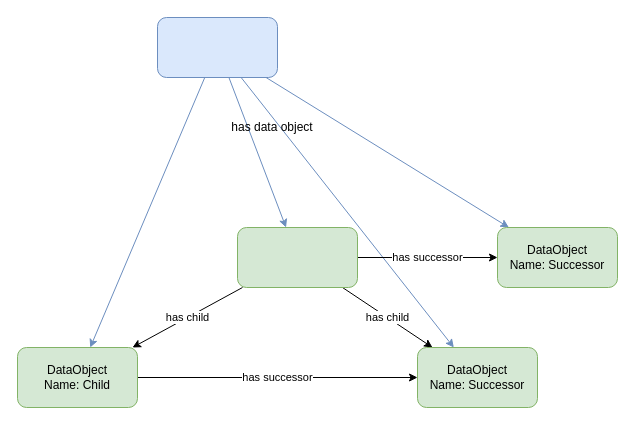
This 635x425 diagram has some shape labels left out. Each missing label, with the box of its shape:
Collection Name: MyCollecton: (156, 16, 278, 78)
DataObject Name: MyDataObject: (236, 226, 358, 288)
